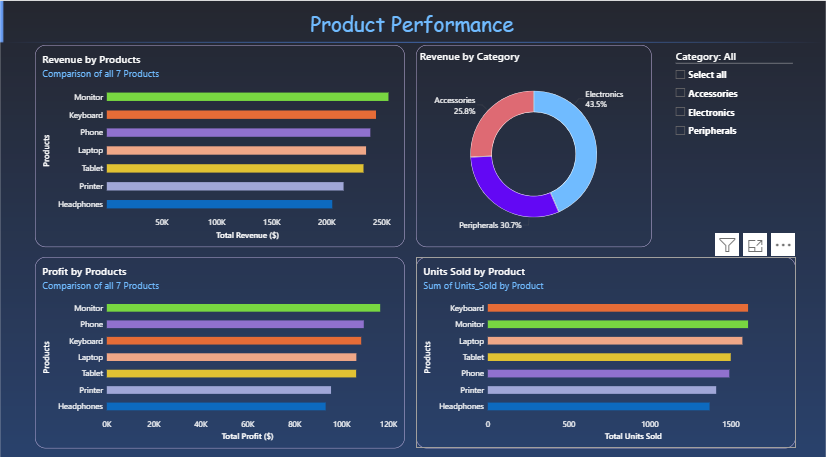

The page's visual inventory and layout, read from the dashboard file:
{"tool":"powerbi","page":{"name":"Product Performance","canvas":[1920,1080],"ordinal":3},"visuals":[{"type":"slicer","fields":{"Values":["Sheet1 (2).Category"]},"box":[1552.5,102.5,297.5,470],"z":0},{"type":"clusteredBarChart","title":"Revenue by Products","fields":{"Category":["Sheet1 (2).Product"],"Y":["Sum(Sheet1 (2).Revenue)"]},"box":[82.5,102.5,860,470],"z":1000},{"type":"clusteredBarChart","title":"Profit by Products","fields":{"Category":["Sheet1 (2).Product"],"Y":["Sum(Sheet1 (2).Profit)"]},"box":[82.5,595,860,445],"z":2000},{"type":"donutChart","title":"Revenue by Category","fields":{"Category":["Sheet1 (2).Category"],"Y":["Sum(Sheet1 (2).Revenue)"]},"box":[967.5,102.5,547.5,470],"z":3000},{"type":"clusteredBarChart","title":"Units Sold by Product","fields":{"Category":["Sheet1 (2).Product"],"Y":["Sum(Sheet1 (2).Units_Sold)"]},"box":[967.5,595,882.5,445],"z":3001},{"type":"textbox","box":[82.5,17.5,1767.5,85],"z":3002}]}

Visuals, with their boxes in screenshot pixels (x1, y1, x2, y2), scaled from the page's 1920x1080 canvas onto the 826x457 screenshot:
slicer - Sheet1 (2).Category: locate(668, 43, 796, 242)
"Revenue by Products" clusteredBarChart: locate(35, 43, 405, 242)
"Profit by Products" clusteredBarChart: locate(35, 252, 405, 440)
"Revenue by Category" donutChart: locate(416, 43, 652, 242)
"Units Sold by Product" clusteredBarChart: locate(416, 252, 796, 440)
textbox: locate(35, 7, 796, 43)
